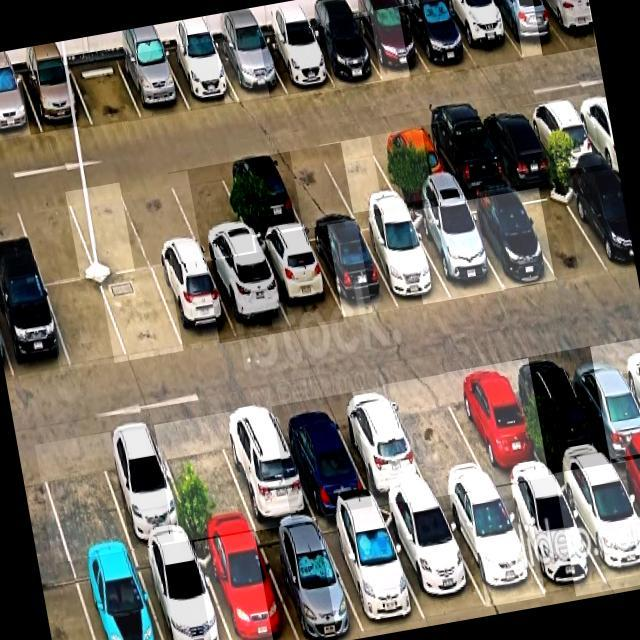empty: (384, 374, 493, 497), (154, 419, 255, 539), (36, 434, 131, 560), (511, 178, 609, 277), (168, 164, 254, 259), (65, 183, 150, 277), (13, 191, 95, 284), (120, 175, 202, 268), (100, 269, 183, 359), (45, 279, 127, 369), (272, 146, 353, 223), (319, 137, 401, 212), (69, 57, 142, 125)
occupied: (317, 509, 427, 637), (254, 521, 363, 640), (496, 477, 606, 594), (379, 500, 487, 618), (438, 487, 545, 606), (445, 364, 549, 485), (214, 402, 314, 527), (328, 386, 433, 502), (94, 425, 192, 548), (271, 398, 372, 516), (512, 353, 610, 472), (194, 531, 298, 640), (555, 463, 640, 589), (135, 541, 230, 640), (408, 203, 504, 299), (458, 193, 554, 288), (306, 219, 398, 317), (254, 229, 343, 330), (562, 346, 640, 461), (357, 212, 450, 304), (72, 551, 162, 640), (562, 170, 635, 272), (153, 261, 238, 348), (206, 253, 290, 338), (0, 283, 70, 380), (421, 117, 508, 195), (219, 154, 302, 235), (476, 107, 556, 181), (371, 128, 453, 200), (523, 98, 601, 171), (441, 0, 523, 68), (353, 7, 429, 80), (398, 2, 476, 73), (306, 18, 381, 87), (163, 44, 239, 110), (117, 50, 190, 118), (20, 64, 91, 132), (259, 30, 334, 94), (488, 0, 569, 57), (215, 37, 285, 101), (539, 0, 596, 49), (0, 73, 41, 140)
